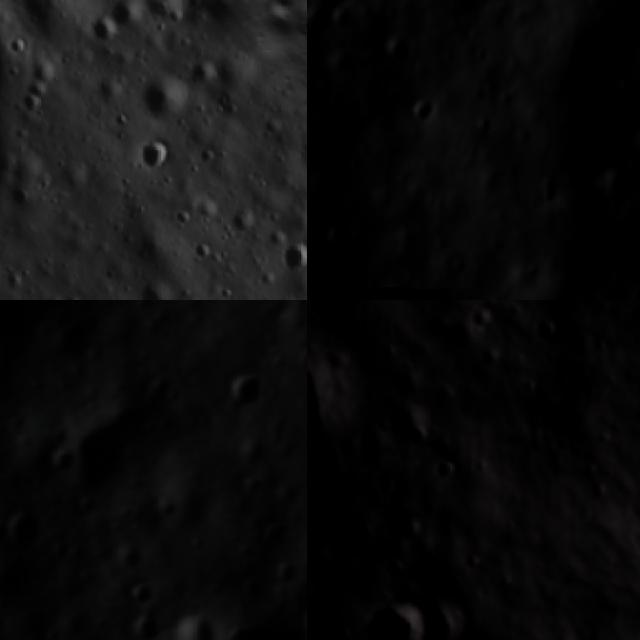crater: (62, 407, 138, 499), (138, 62, 198, 122), (218, 358, 269, 423), (125, 128, 181, 182), (362, 602, 422, 640), (416, 594, 464, 640), (0, 502, 42, 554), (82, 6, 121, 46), (170, 607, 215, 640), (124, 569, 164, 606), (274, 236, 307, 279), (258, 514, 297, 550), (124, 610, 170, 640), (406, 98, 440, 129), (321, 220, 354, 247), (386, 545, 409, 582), (401, 512, 425, 546), (534, 314, 555, 351), (435, 453, 461, 477), (297, 145, 307, 204), (346, 566, 363, 593), (479, 308, 496, 331), (477, 346, 499, 361), (633, 300, 640, 335)
